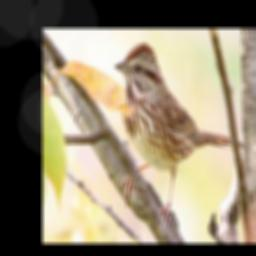Sparrow: (112, 39, 245, 227)
